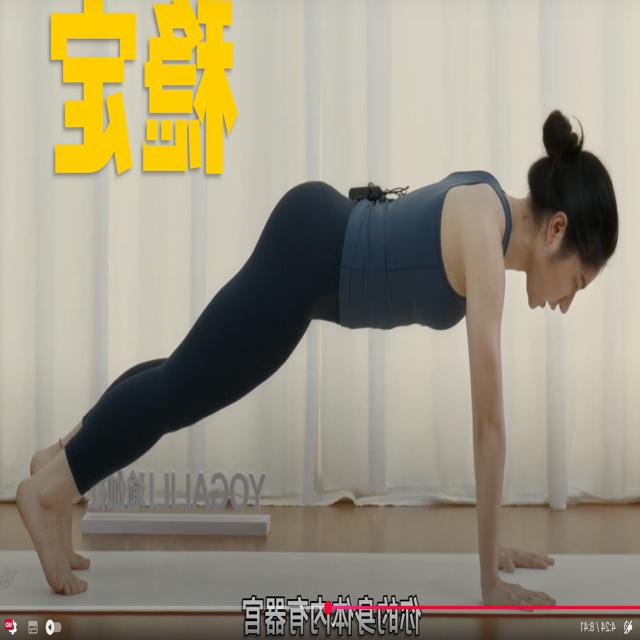Plank_Pose: (12, 165, 626, 618)
